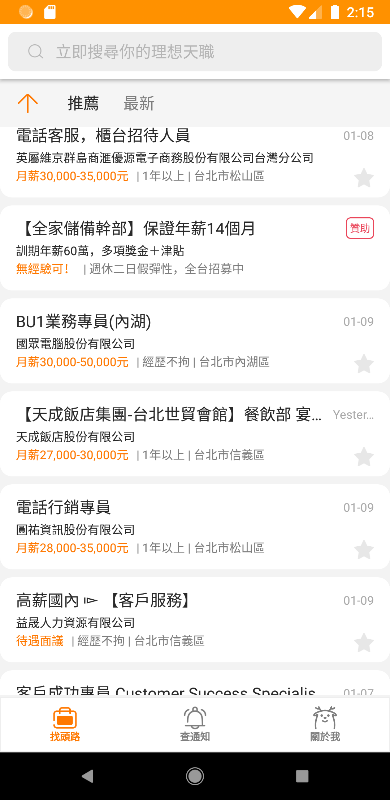button: (5, 26, 385, 76), (296, 703, 349, 749), (44, 703, 88, 749), (176, 703, 215, 748), (346, 348, 382, 381), (344, 535, 379, 567), (349, 158, 379, 194), (351, 628, 382, 658), (15, 86, 38, 118), (351, 445, 376, 471)
